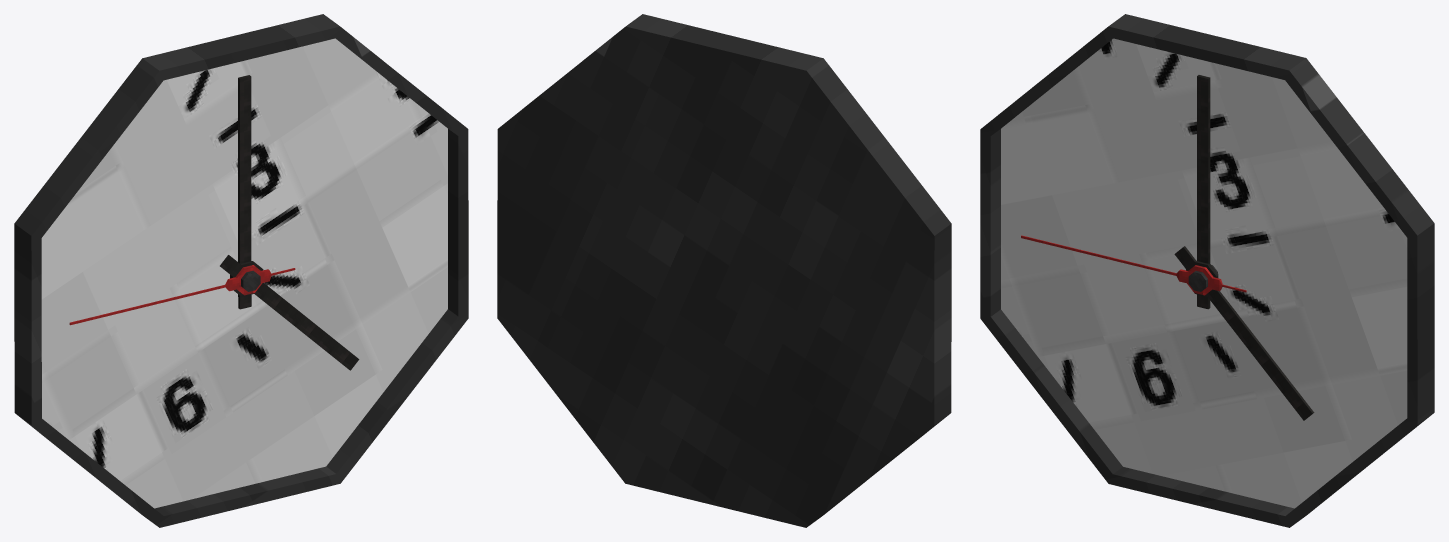
Rendered from SM_Clock.fbx.
The picture shows the model from 3 angles, left to right: view 1: azimuth 30°, elevation 25°; view 2: azimuth 150°, elevation 25°; view 3: azimuth 330°, elevation 25°; orthographic projection.
Visible parts, largest first — view 1: SM_Clock; view 2: SM_Clock; view 3: SM_Clock.
Part boxes in pixels (x1,y1,x2,y2): SM_Clock: (14,14,468,527); SM_Clock: (497,14,951,527); SM_Clock: (980,14,1434,527).
Size of the model in its own units: 49.99 by 49.99 by 3.73.
Materials: 5 (5 with a texture image).
